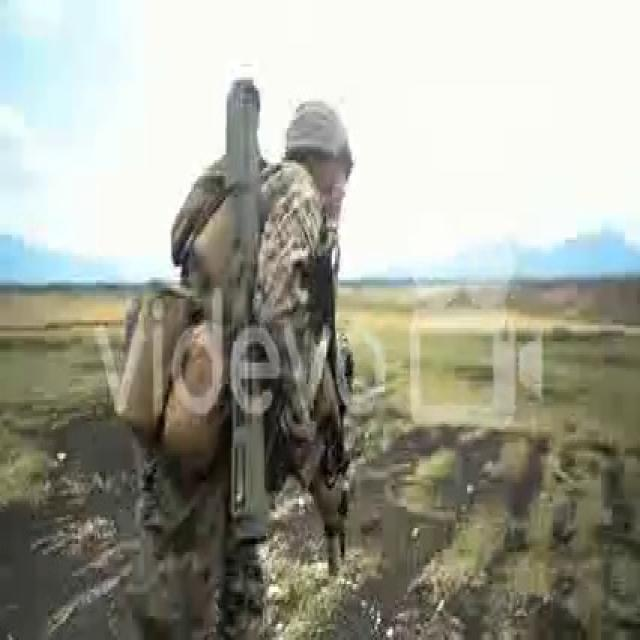bazooka: (214, 68, 273, 561)
